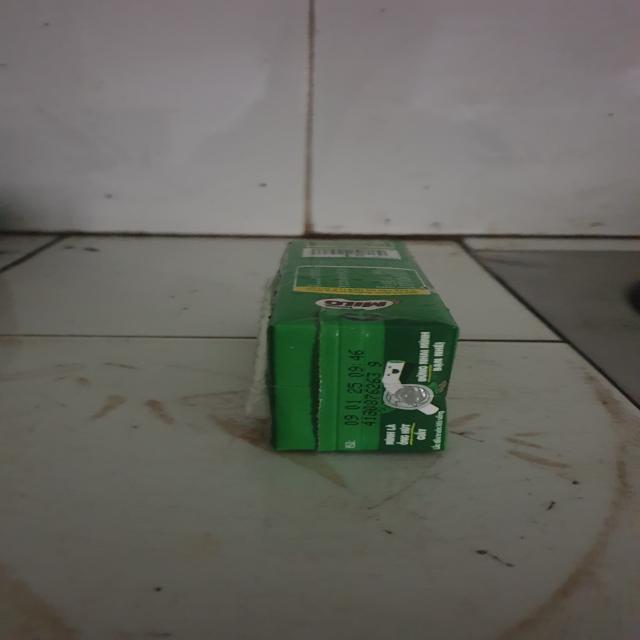Milo: (272, 235, 458, 457)
